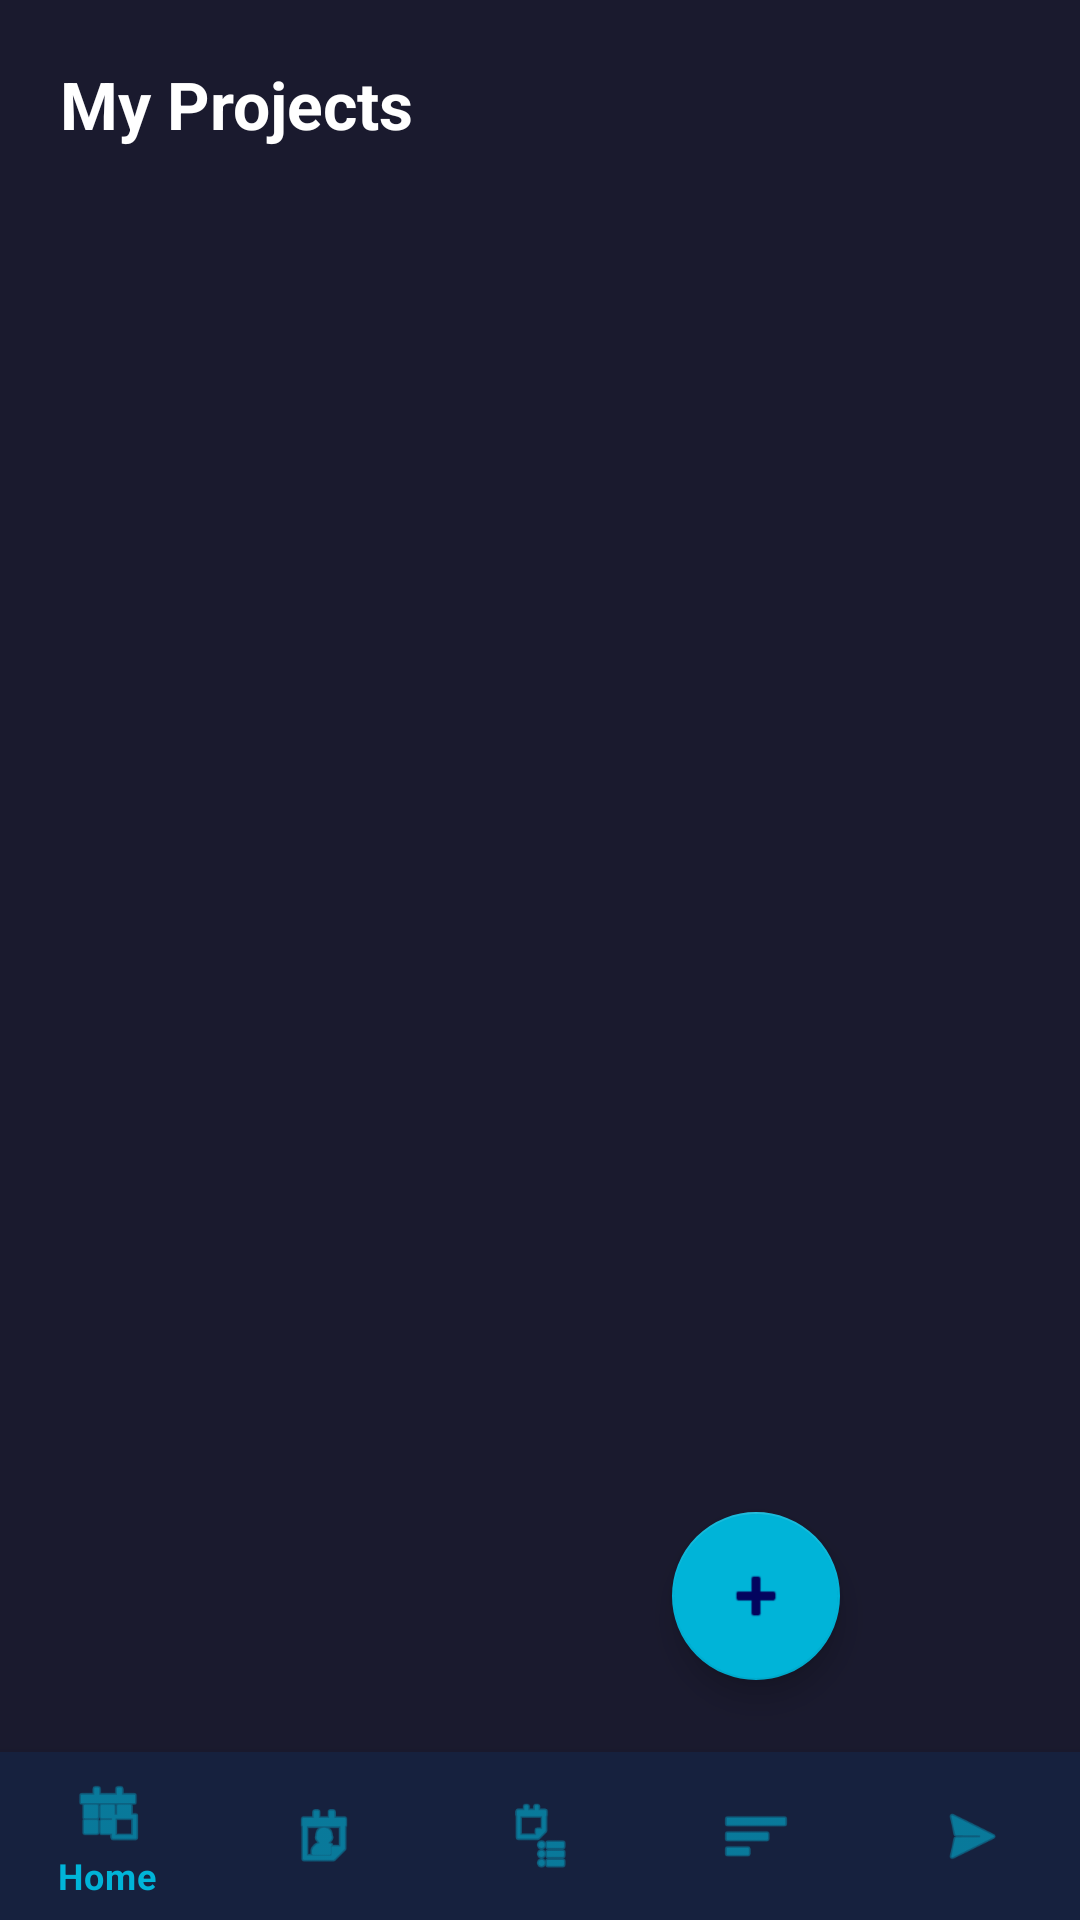

Screen size 1080*1920. Icon name, then its center in pixels as [x,y]:
add: [756,1596]
